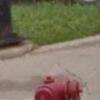Hydrant: (27, 61, 85, 100)
